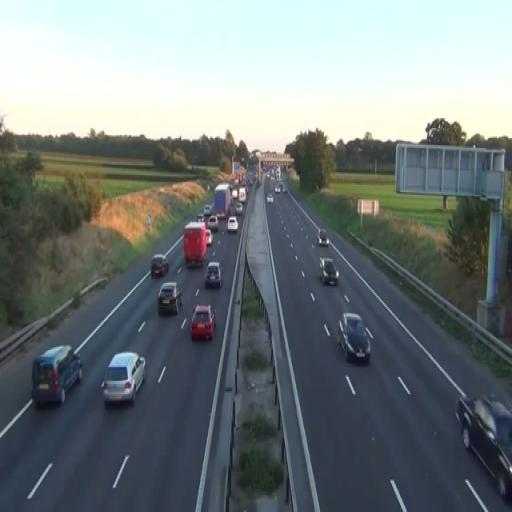Car: (454, 392, 512, 500), (31, 344, 83, 408), (101, 351, 147, 407), (338, 312, 372, 365), (190, 304, 217, 342), (158, 281, 183, 315), (319, 257, 339, 286), (205, 262, 224, 288), (150, 254, 169, 278), (318, 228, 328, 247), (228, 216, 238, 232), (205, 229, 213, 247)
Truck: (183, 220, 207, 268), (214, 184, 232, 218)
